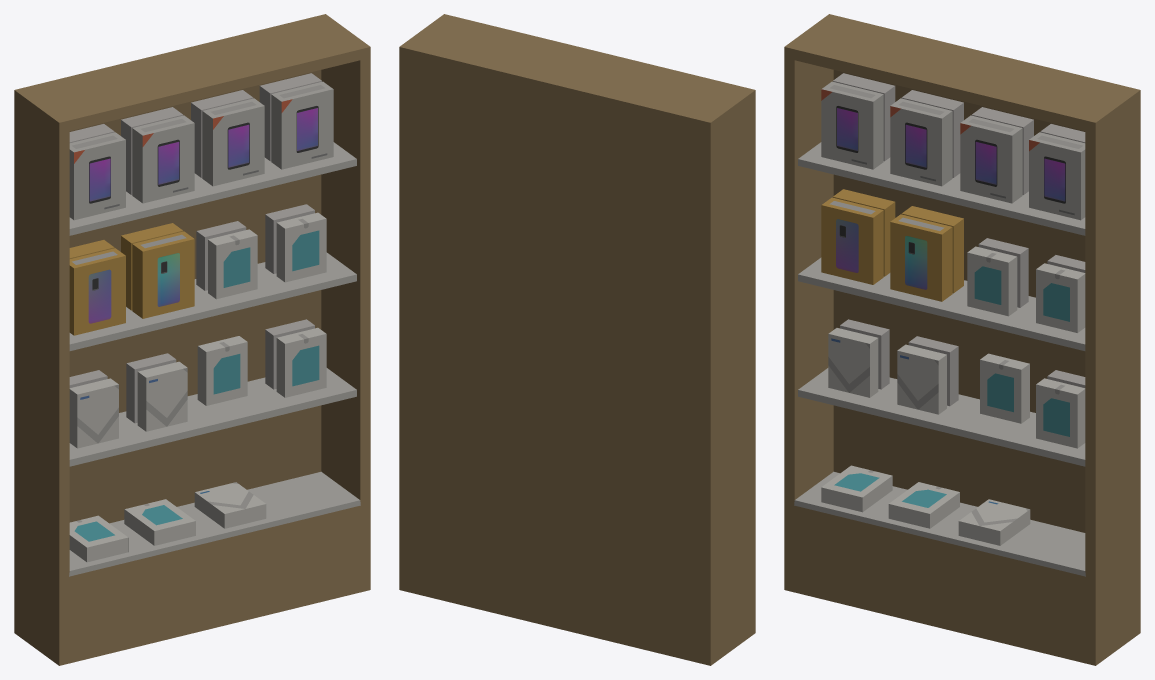
The model's file is SM_Props_Interior_Shop_Electronic_Preset_Rack.fbx.
The picture shows the model from 3 angles, left to right: view 1: azimuth 30°, elevation 25°; view 2: azimuth 150°, elevation 25°; view 3: azimuth 330°, elevation 25°; orthographic projection.
Visible parts, largest first — view 1: SM_Props_Interior_Shop_Electronic_Preset_Rack, SM_Props_Interior_Shop_Electronic_Preset_Rack_Product; view 2: SM_Props_Interior_Shop_Electronic_Preset_Rack; view 3: SM_Props_Interior_Shop_Electronic_Preset_Rack, SM_Props_Interior_Shop_Electronic_Preset_Rack_Product.
Part boxes in pixels (x1=…): SM_Props_Interior_Shop_Electronic_Preset_Rack: x1=14, y1=14, x2=370, y2=665; SM_Props_Interior_Shop_Electronic_Preset_Rack_Product: x1=69, y1=73, x2=333, y2=562; SM_Props_Interior_Shop_Electronic_Preset_Rack: x1=399, y1=14, x2=755, y2=665; SM_Props_Interior_Shop_Electronic_Preset_Rack: x1=784, y1=14, x2=1140, y2=665; SM_Props_Interior_Shop_Electronic_Preset_Rack_Product: x1=821, y1=73, x2=1085, y2=545.
Bounding box in the file's own units: 120 × 200 × 30.
